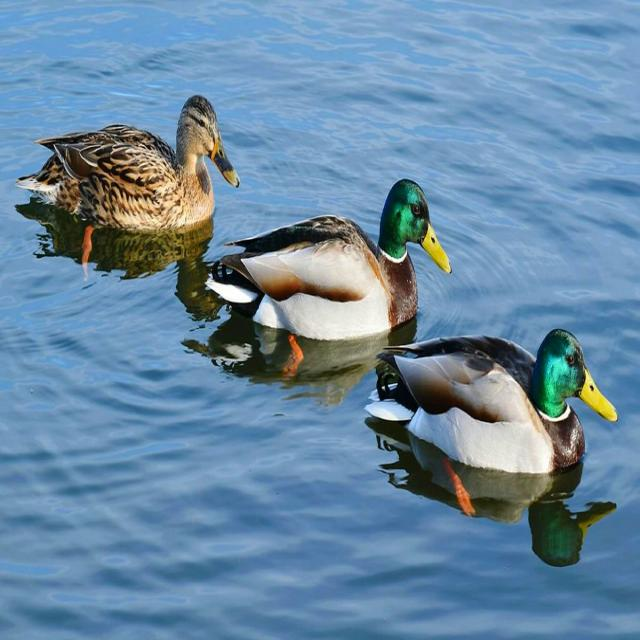duck: (207, 179, 452, 373), (365, 329, 618, 514), (17, 95, 239, 279)
